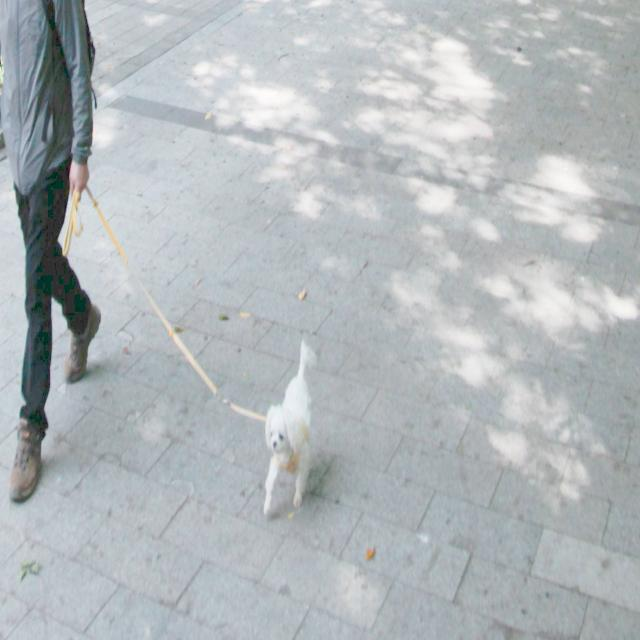Leashed_Dog: (9, 169, 317, 515)
